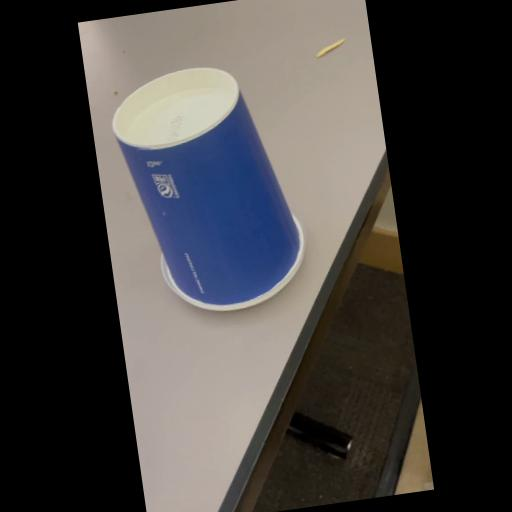lp_paper_cup: (100, 35, 358, 365)
